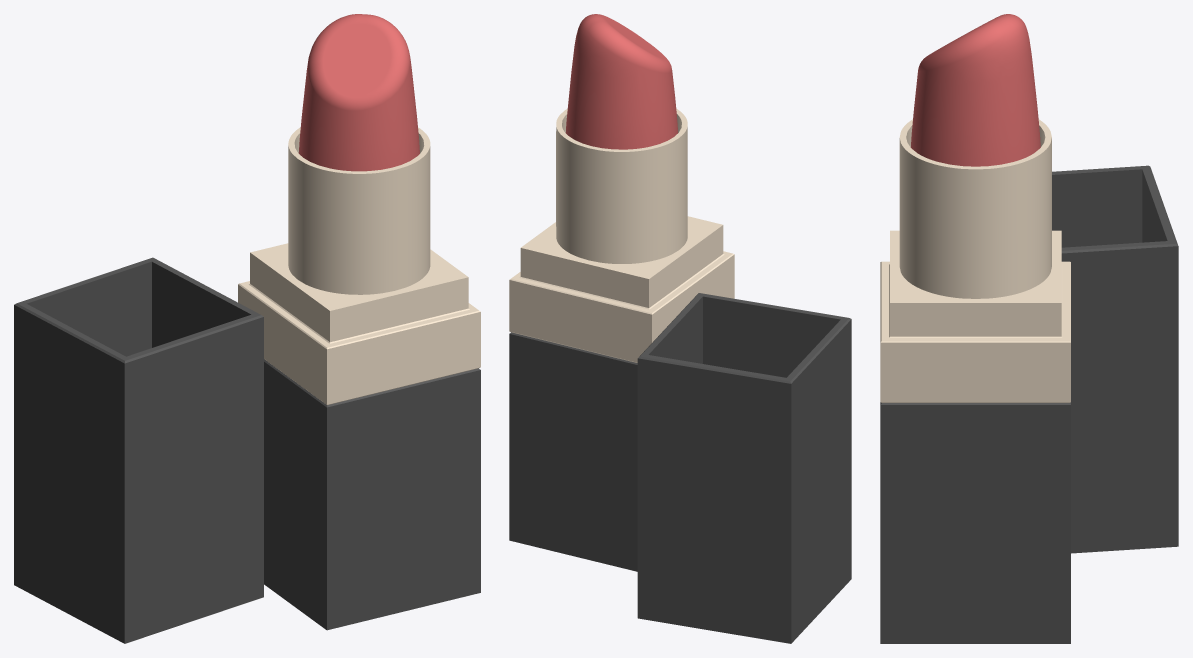
Rendered from 954_lipstick_open_placed.glb.
3 renders of one model, left to right at view 1: azimuth 30°, elevation 25°; view 2: azimuth 150°, elevation 25°; view 3: azimuth 270°, elevation 25°, orthographic. The views are drawn at different scales.
Visible parts, largest first — view 1: Body, huta, lip; view 2: huta, Body, lip; view 3: Body, huta, lip.
Part boxes in pixels (x1,y1,x2,y2): Body: (238, 127, 480, 630); huta: (14, 257, 263, 643); lip: (298, 14, 419, 171); huta: (637, 293, 851, 643); Body: (509, 109, 734, 571); lip: (565, 14, 677, 149); Body: (880, 119, 1070, 643); huta: (1052, 165, 1178, 553); lip: (910, 14, 1040, 166).
Size of the model in its own units: 0.0443 by 0.0686 by 0.0313.
